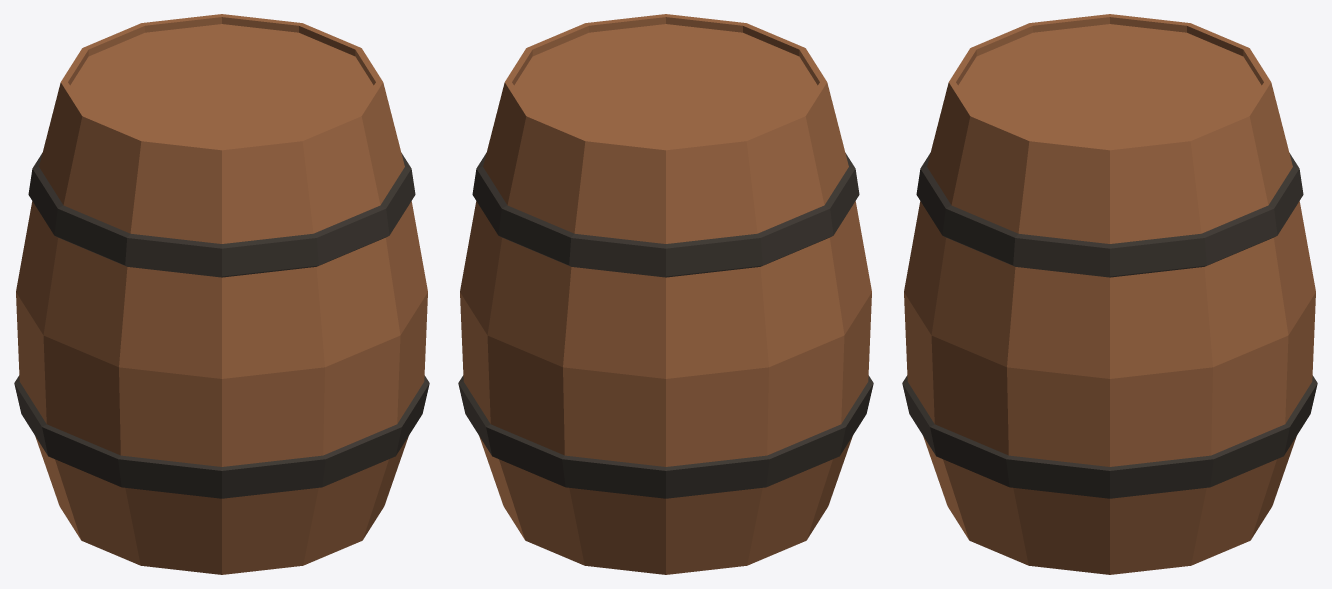
The model's file is barrel.gltf.
3 views of the same model, side by side, from view 1: azimuth 30°, elevation 25°; view 2: azimuth 150°, elevation 25°; view 3: azimuth 270°, elevation 25° (orthographic).
Visible parts, largest first — view 1: Cylinder; view 2: Cylinder; view 3: Cylinder.
Boxes of the visible parts, x1=… form: Cylinder: x1=14, y1=14, x2=429, y2=574; Cylinder: x1=458, y1=14, x2=873, y2=574; Cylinder: x1=902, y1=14, x2=1317, y2=574.
Size of the model in its own units: 2.05 by 2.31 by 2.05.
